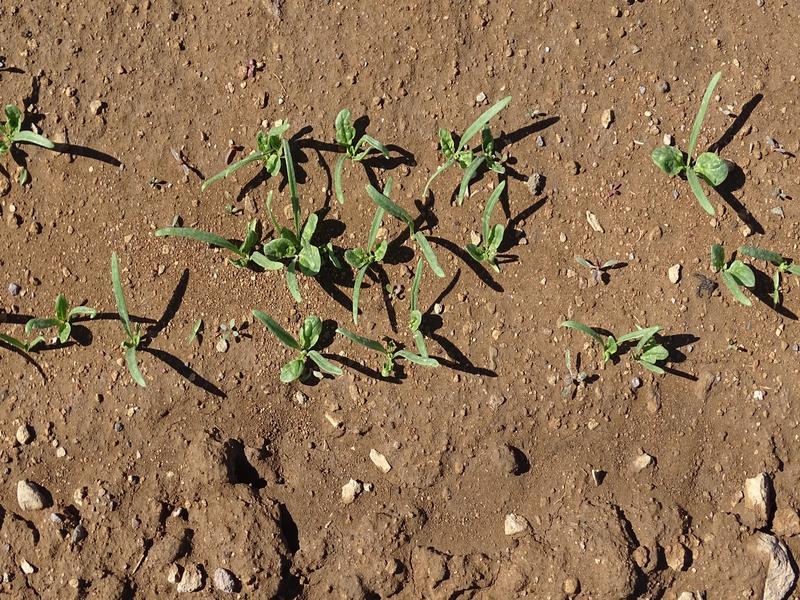Espinaca: (217, 109, 512, 393), (667, 80, 800, 308), (564, 308, 688, 381), (107, 252, 158, 402), (24, 288, 97, 349), (1, 105, 49, 171)
